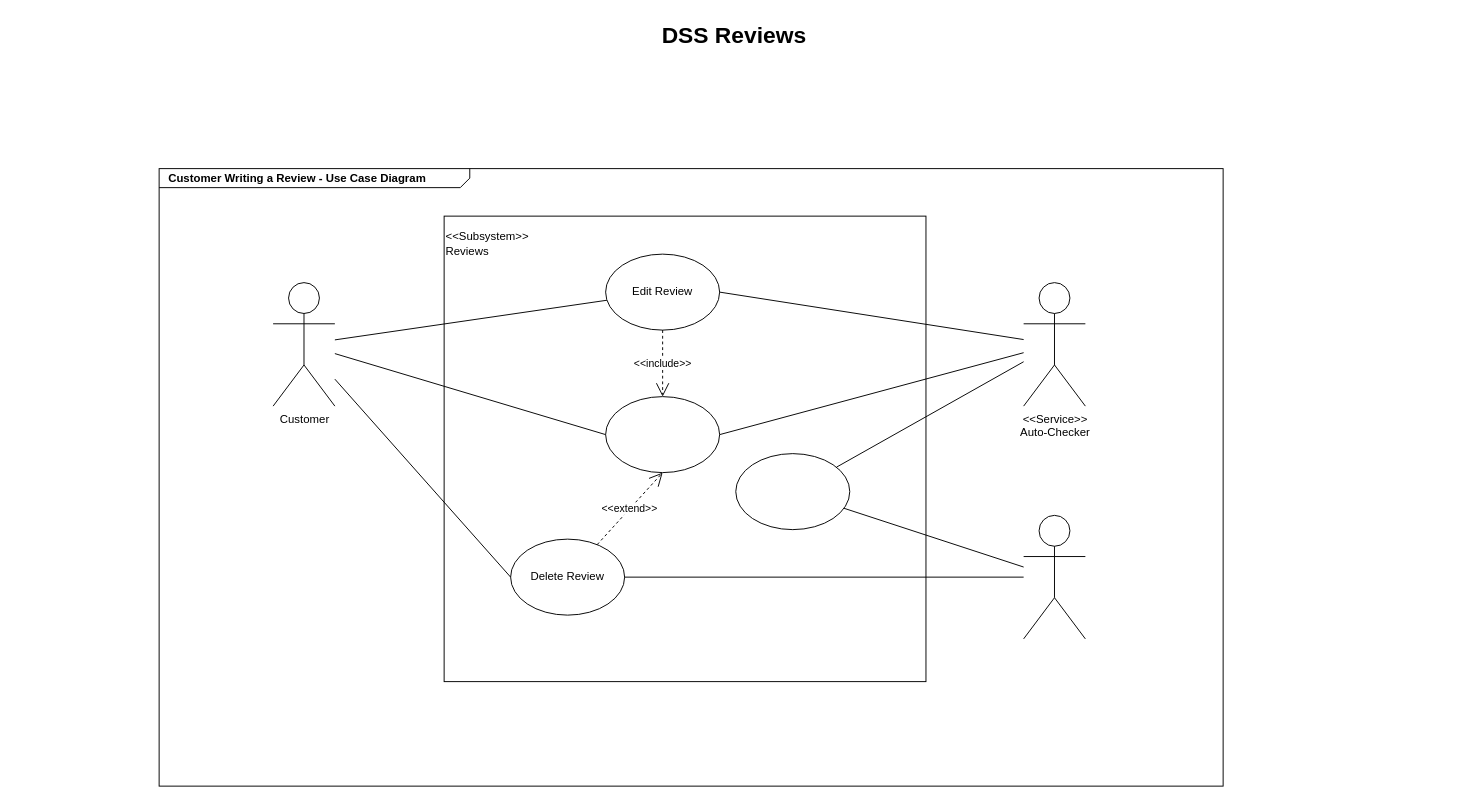
This 1467x803 diagram has some shape labels left out. Each missing label, with the centre of its shape:
"<<Service>> Reviews" belongs at pixel 1054 576.
"Add Review" belongs at pixel 662 434.
"Submit Review" belongs at pixel 792 491.
